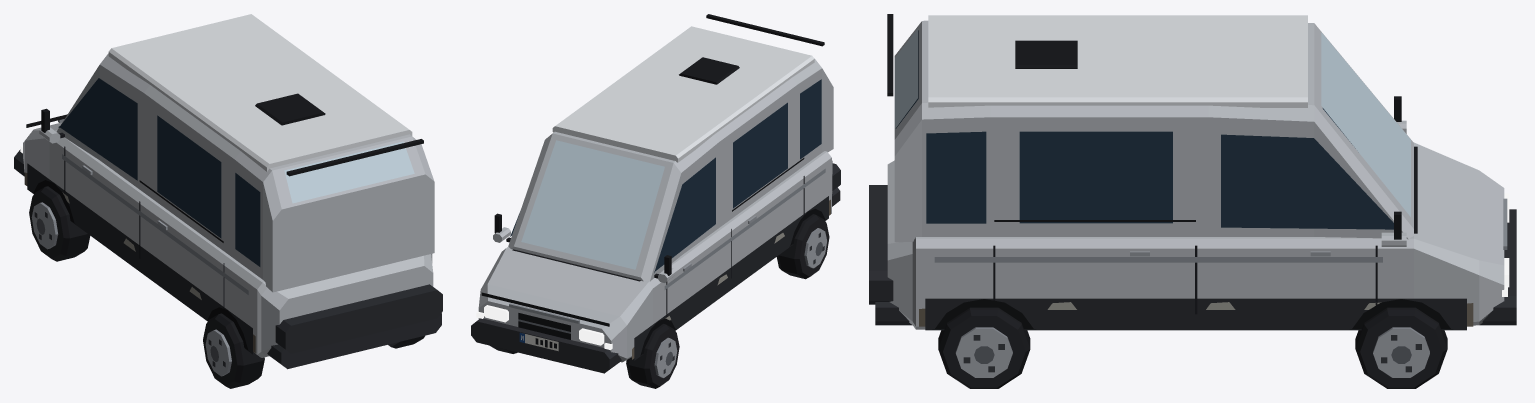
The model's file is minivan.glb.
The picture shows the model from 3 angles, left to right: view 1: azimuth 30°, elevation 25°; view 2: azimuth 150°, elevation 25°; view 3: azimuth 270°, elevation 25°; orthographic projection. The views are drawn at different scales.
Parts seen in each view (by area): view 1: body.004, wheel_RL.004, wheel_FL.004; view 2: body.004, wheel_FL.004, wheel_RL.004; view 3: body.004, wheel_FR.004, wheel_RR.004.
Boxes of the visible parts, x1,y1,x2,y2 form: body.004: (14,14,442,369); wheel_RL.004: (203,313,264,388); wheel_FL.004: (29,186,90,261); body.004: (471,14,840,373); wheel_FL.004: (626,324,679,388); wheel_RL.004: (776,214,829,279); body.004: (869,14,1516,330); wheel_FR.004: (1355,307,1447,388); wheel_RR.004: (938,307,1030,388).
Bounding box in the file's own units: 2.26 × 2.5 × 5.23.
